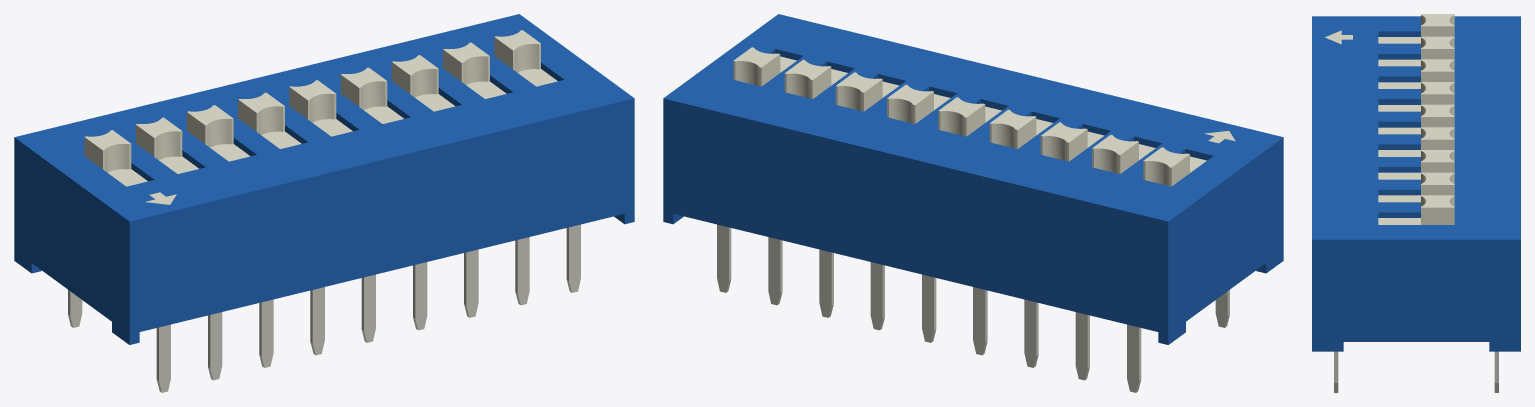
Rendered from kc-sw_dip_spstx09_slide_9.78x25.04mm_w7.62mm_p2.54mm.glb.
3 renders of one model, left to right at view 1: azimuth 30°, elevation 25°; view 2: azimuth 150°, elevation 25°; view 3: azimuth 270°, elevation 25°, orthographic. The views are drawn at different scales.
Visible parts, largest first — view 1: 0_0.16666666666666666_0.5_0, 0.75_0.75_0.6666666666666666_0, 0.6666666666666666_0.6666666666666666_0.5833333333333334_0.8; view 2: 0_0.16666666666666666_0.5_0, 0.75_0.75_0.6666666666666666_0, 0.6666666666666666_0.6666666666666666_0.5833333333333334_0.8; view 3: 0_0.16666666666666666_0.5_0, 0.75_0.75_0.6666666666666666_0, 0.6666666666666666_0.6666666666666666_0.5833333333333334_0.8.
Part boxes in pixels (x1,y1,x2,y2): 0_0.16666666666666666_0.5_0: (14, 14, 634, 344); 0.75_0.75_0.6666666666666666_0: (84, 30, 557, 204); 0.6666666666666666_0.6666666666666666_0.5833333333333334_0.8: (68, 224, 580, 392); 0_0.16666666666666666_0.5_0: (663, 14, 1283, 344); 0.75_0.75_0.6666666666666666_0: (733, 47, 1235, 186); 0.6666666666666666_0.6666666666666666_0.5833333333333334_0.8: (717, 224, 1229, 392); 0_0.16666666666666666_0.5_0: (1312, 16, 1520, 351); 0.75_0.75_0.6666666666666666_0: (1325, 14, 1454, 224); 0.6666666666666666_0.6666666666666666_0.5833333333333334_0.8: (1334, 351, 1498, 392).
Size of the model in its own units: 2.5 by 0.995 by 0.9898.
